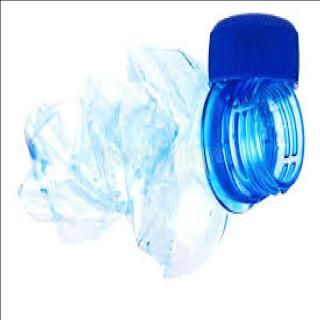Anorganik: (15, 12, 303, 281)
